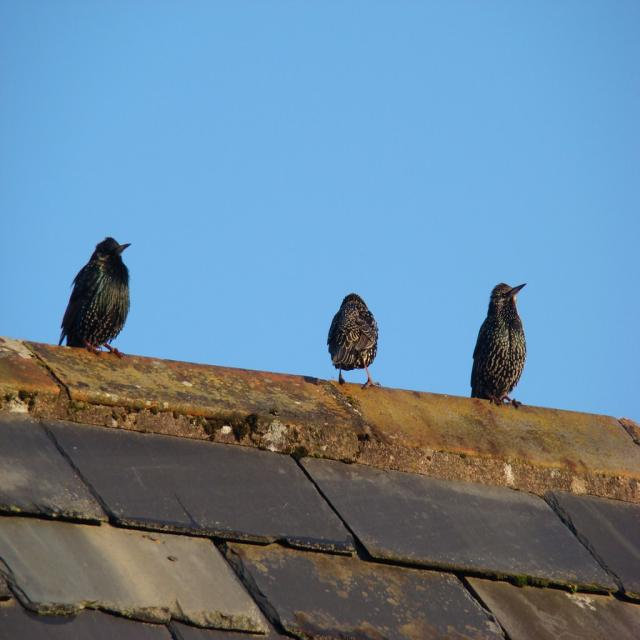bird: (55, 235, 134, 361), (467, 279, 531, 410), (325, 292, 381, 390)
